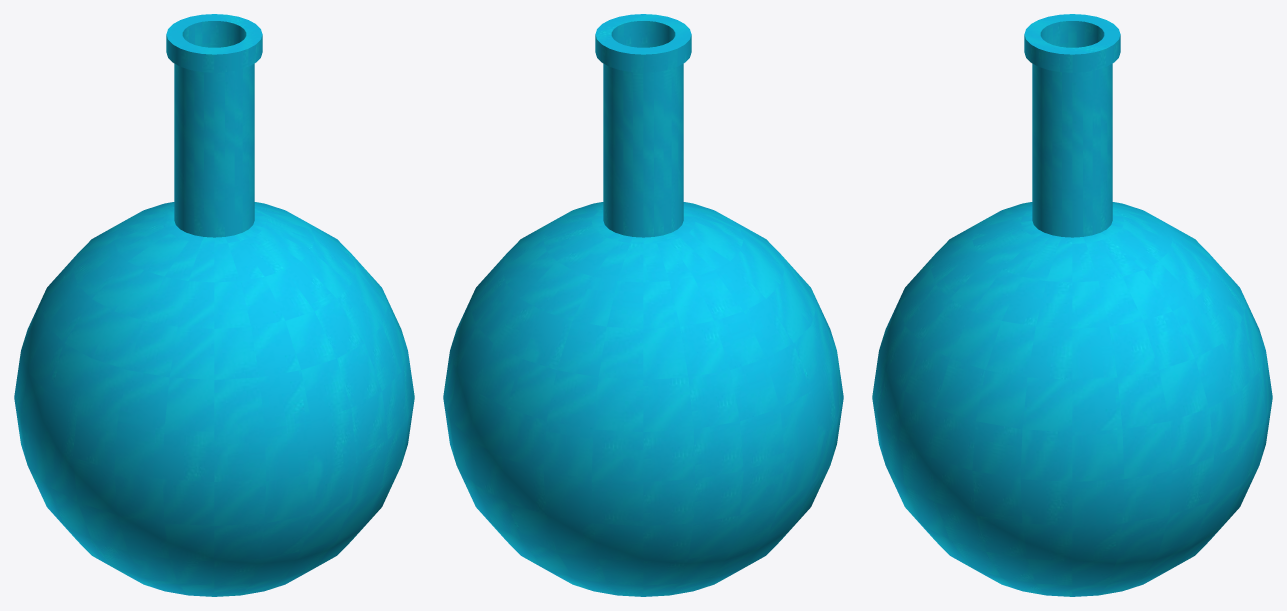
3 renders of one model, left to right at view 1: azimuth 30°, elevation 25°; view 2: azimuth 150°, elevation 25°; view 3: azimuth 270°, elevation 25°, orthographic.
Visible parts, largest first — view 1: root; view 2: root; view 3: root.
Boxes of the visible parts, bbox=[...] form: root: bbox=[14, 14, 414, 596]; root: bbox=[443, 14, 843, 596]; root: bbox=[872, 14, 1272, 596].
Bounding box in the file's own units: 1.27 × 1.9 × 1.27.
1 material, 1 textured.
